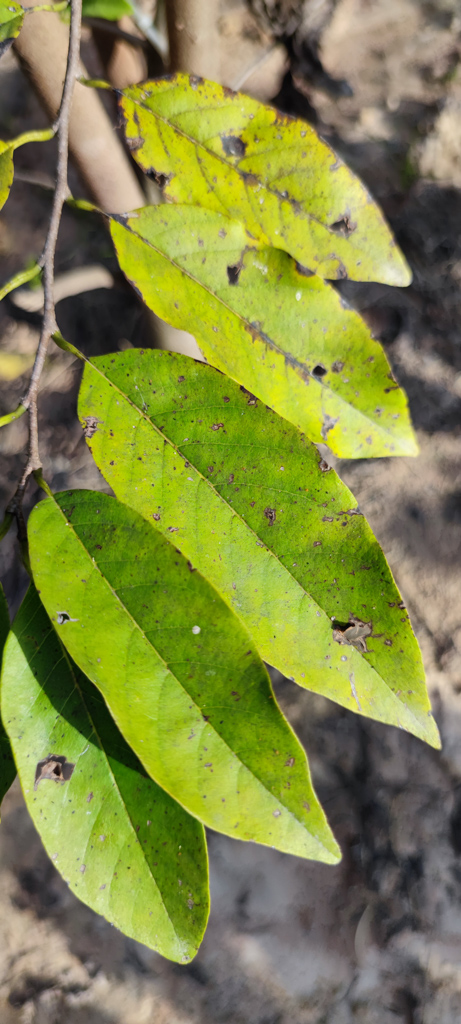Pepper yellow leaf: (76, 344, 443, 755), (106, 202, 426, 466), (110, 72, 419, 292)
